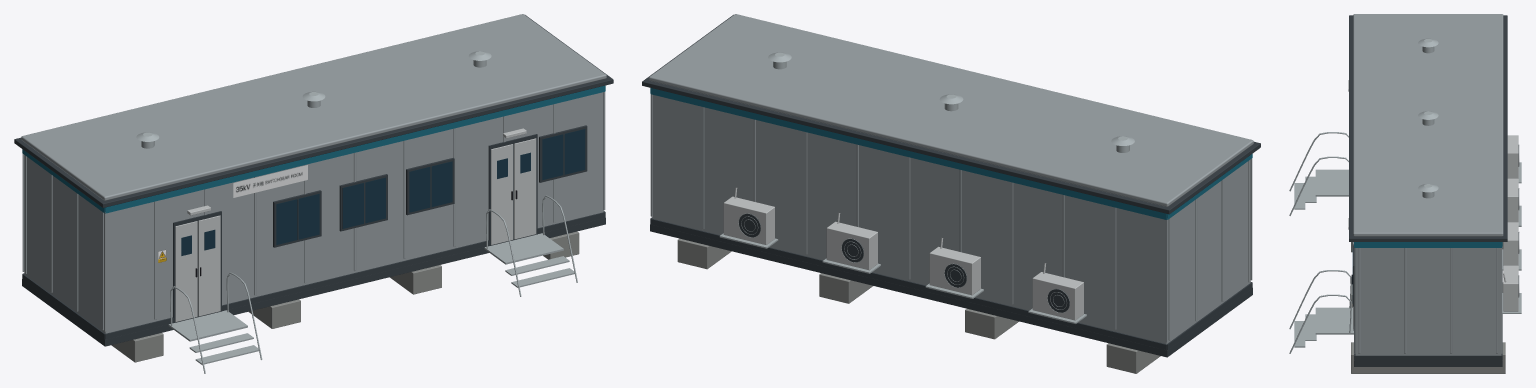
File: switchgear-cabin.glb
The picture shows the model from 3 angles, left to right: view 1: azimuth 30°, elevation 25°; view 2: azimuth 150°, elevation 25°; view 3: azimuth 270°, elevation 25°; orthographic projection. The views are drawn at different scales.
Visible parts, largest first — view 1: 35kV 开关舱本体; view 2: 35kV 开关舱本体; view 3: 35kV 开关舱本体.
Boxes of the visible parts, x1,y1,x2,y2 form: 35kV 开关舱本体: (14, 14, 613, 373); 35kV 开关舱本体: (642, 14, 1260, 373); 35kV 开关舱本体: (1289, 14, 1521, 373).
Bounding box in the file's own units: 12.3 × 4.21 × 5.41.
7 materials, 2 textured.
